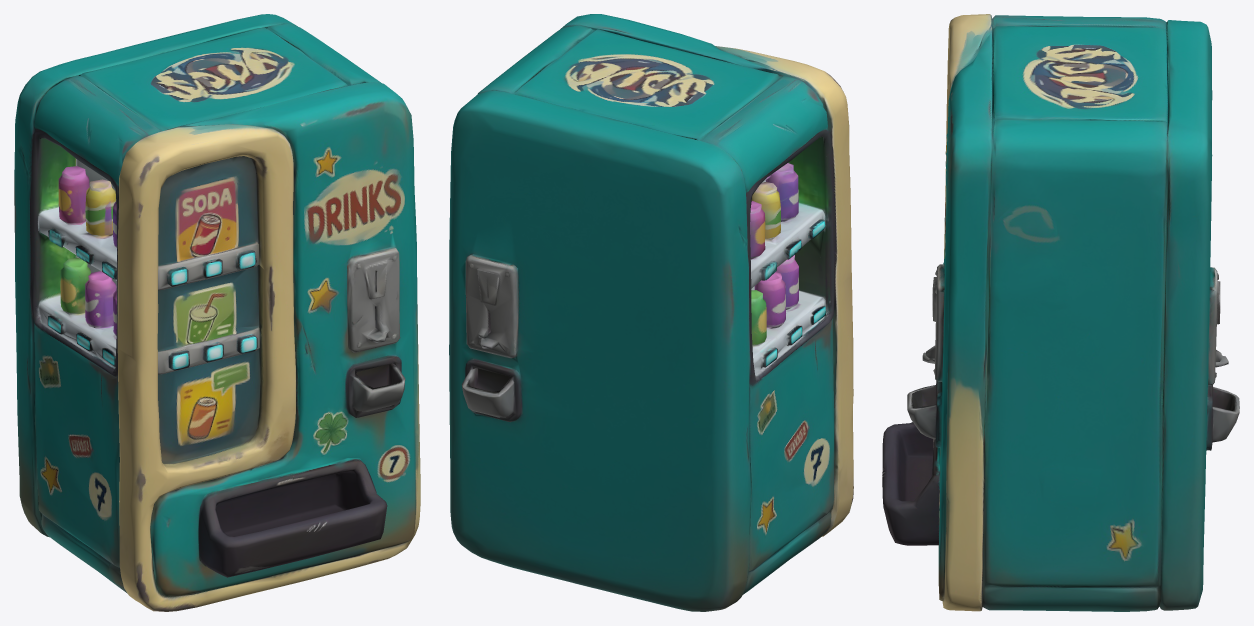
The model's file is vending_machine.glb.
3 views of the same model, side by side, from view 1: azimuth 30°, elevation 25°; view 2: azimuth 150°, elevation 25°; view 3: azimuth 270°, elevation 25° (orthographic). The views are drawn at different scales.
Parts seen in each view (by area): view 1: tripo_node_28067488-f42b-4198-b8f0-ce9113d723fd; view 2: tripo_node_28067488-f42b-4198-b8f0-ce9113d723fd; view 3: tripo_node_28067488-f42b-4198-b8f0-ce9113d723fd.
Part boxes in pixels (box(x1,y1,x2,y2)): tripo_node_28067488-f42b-4198-b8f0-ce9113d723fd: box(14, 14, 420, 611); tripo_node_28067488-f42b-4198-b8f0-ce9113d723fd: box(449, 14, 853, 611); tripo_node_28067488-f42b-4198-b8f0-ce9113d723fd: box(882, 14, 1239, 611).
Size of the model in its own units: 0.6316 by 0.9799 by 0.6529.
Materials: 1 (1 with a texture image).
